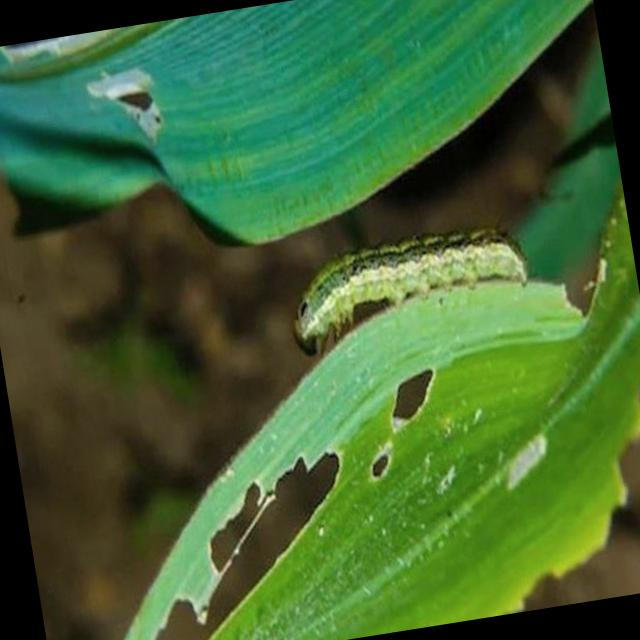pest: (272, 215, 533, 332)
